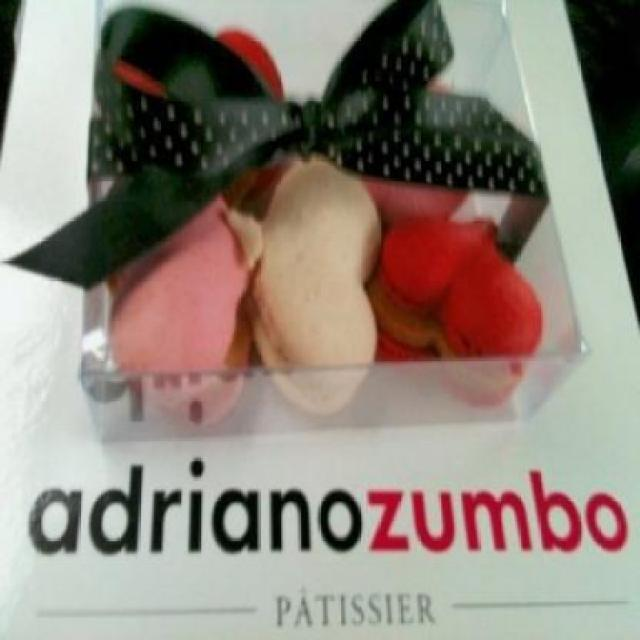Macaron: (125, 176, 524, 400)
